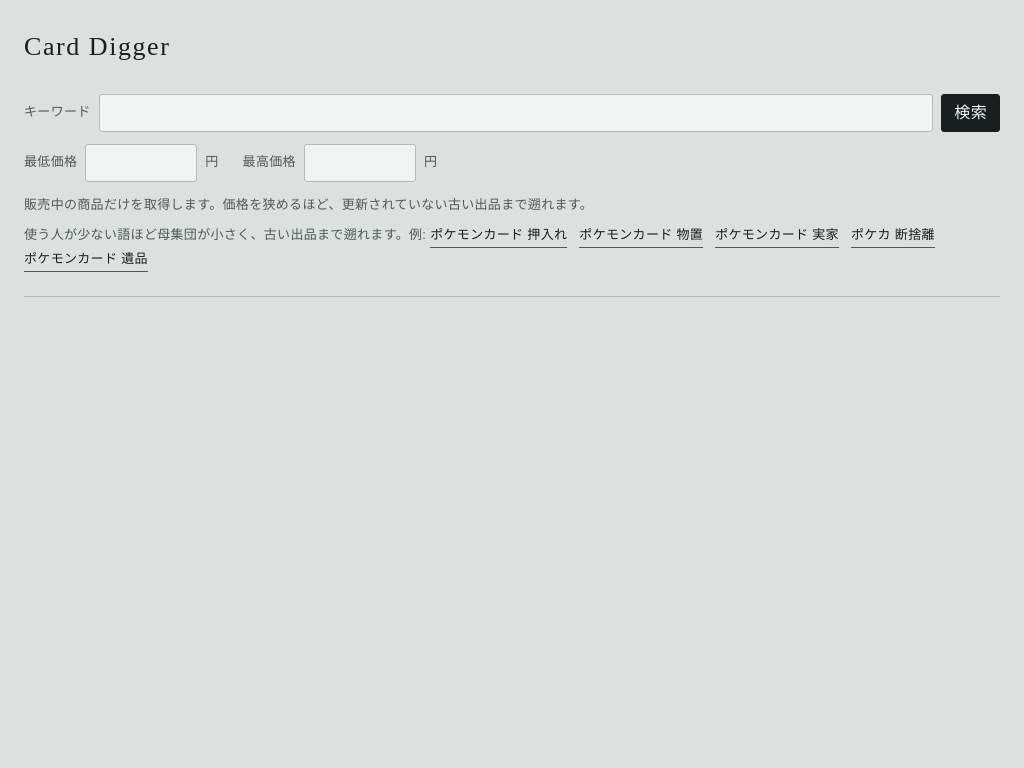
Test: success › shows the collected range, the collection time and the stop reason
The image size is (1024, 768).
Type "ポケカ" into the field labelled "キーワード" at (516,112), box [99,94,933,132]
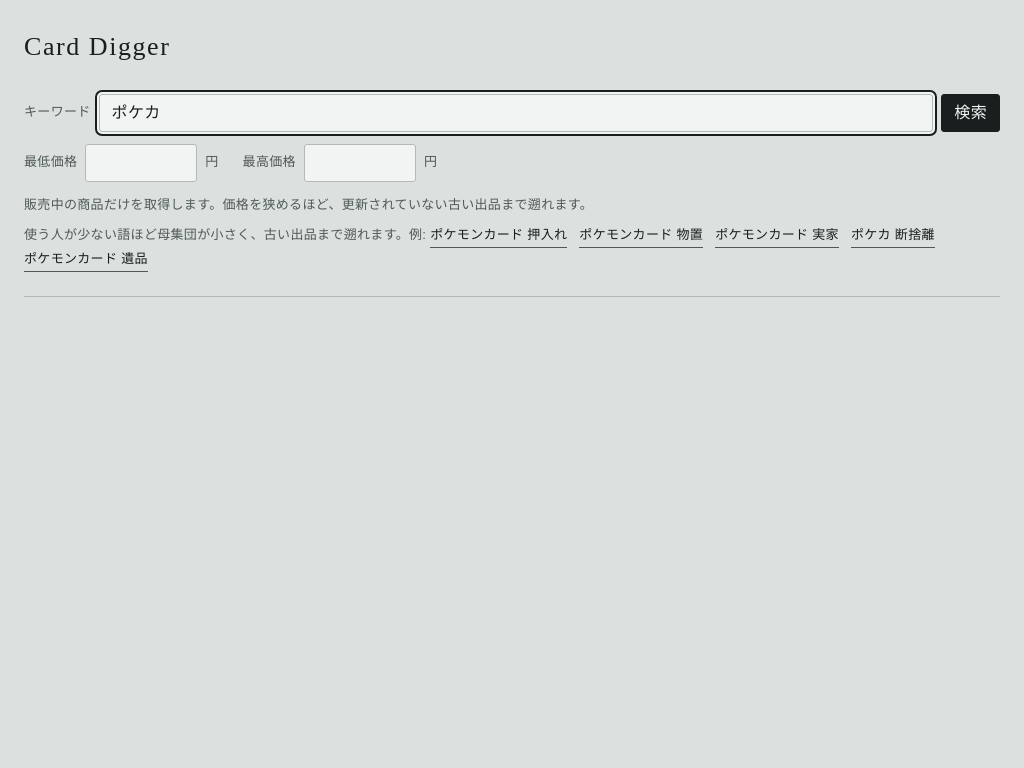
Click the button "検索" at (971,112), box [941,94,1000,132]
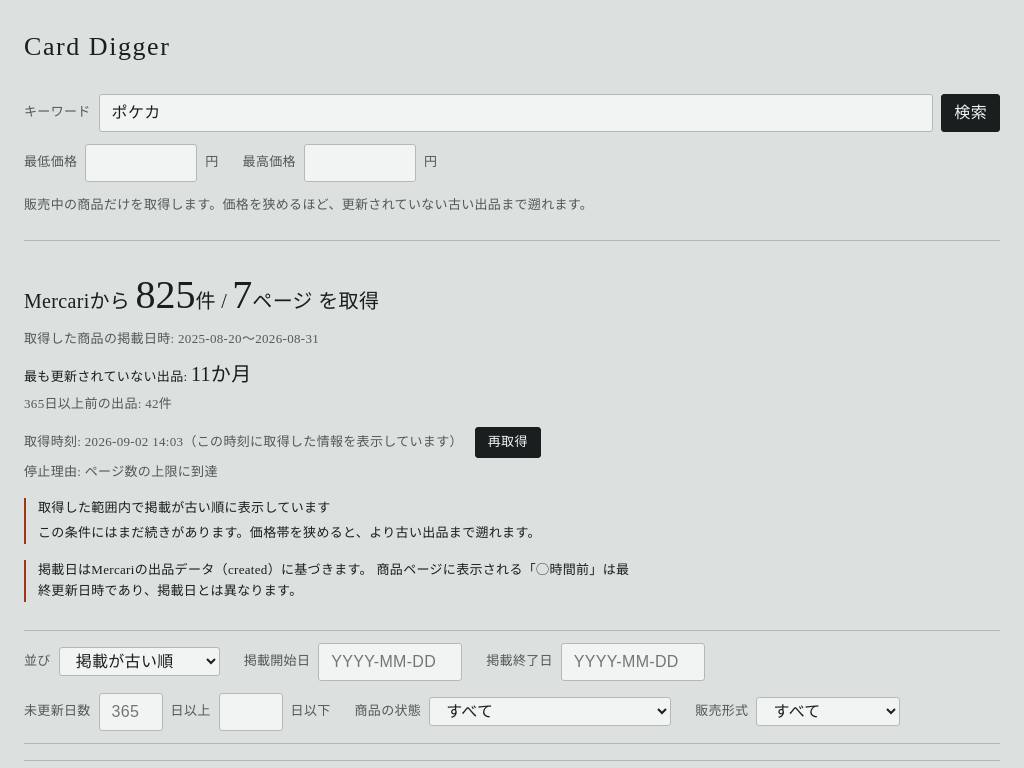
Now the element named "取得範囲" shows "825", box [136,272,196,317]
Now the element named "取得範囲" shows "7", box [232,272,252,317]
Now the element named "取得範囲" shows "2025-08-20〜2026-08-31", box [178,331,319,346]
